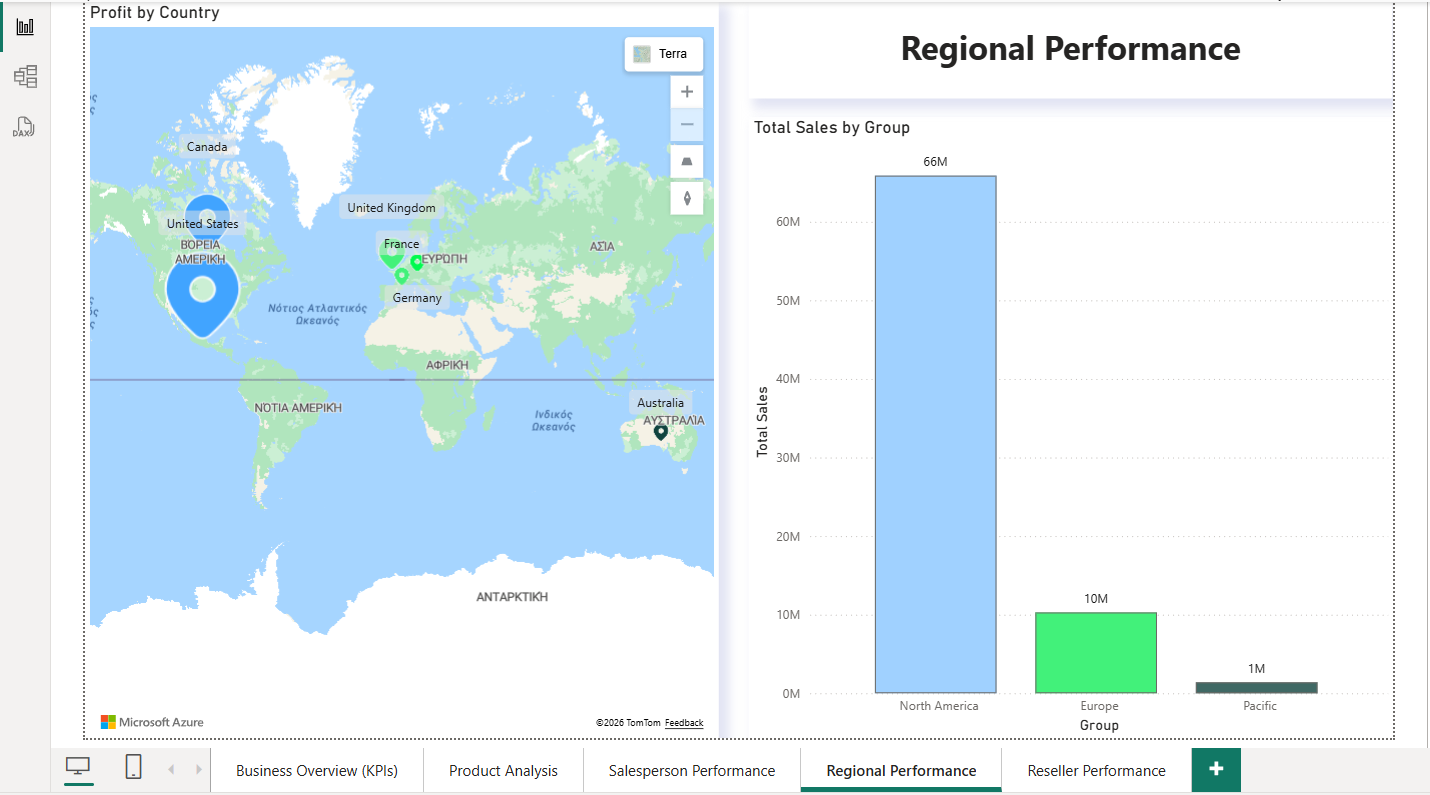

Layout of this report page (visuals, bound fields, positions):
{"tool":"powerbi","page":{"name":"Regional Performance","canvas":[1280,720],"ordinal":3},"visuals":[{"type":"azureMap","fields":{"Size":["FactSales.Profit"],"Category":["DimRegion.Country"]},"box":[0,0,620,720.2],"z":0},{"type":"columnChart","fields":{"Category":["DimRegion.Group"],"Y":["FactSales.Total Sales"]},"box":[649.3,112.5,631,607.7],"z":1000},{"type":"textbox","box":[649.3,0,629.6,94],"z":2000}]}

Visuals, with their boxes on the page's 1280x720 design canvas (x1, y1, x2, y2). These are canvas units, not pixel positions in the 1430x795 screenshot, which may show the page scaled, cropped or inside an application window:
azureMap - FactSales.Profit x DimRegion.Country: 0, 0, 620, 720
columnChart - DimRegion.Group x FactSales.Total Sales: 649, 112, 1280, 720
textbox: 649, 0, 1279, 94
